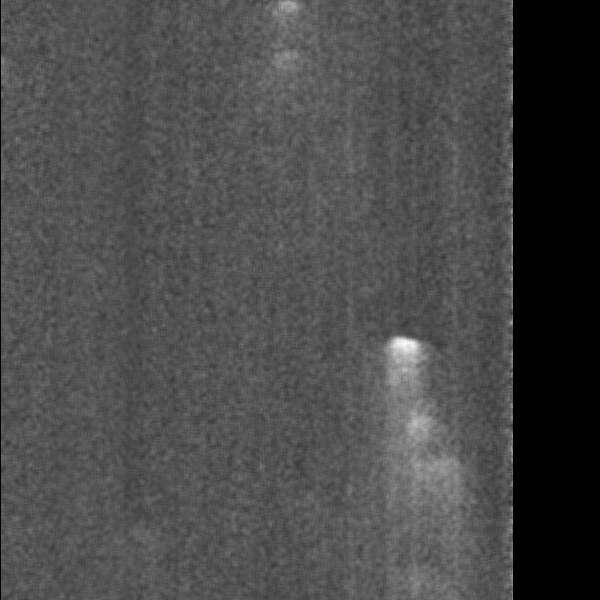spark: (368, 328, 437, 421), (362, 454, 499, 483), (388, 405, 449, 443), (413, 558, 457, 600), (261, 1, 307, 27), (271, 44, 305, 74)
